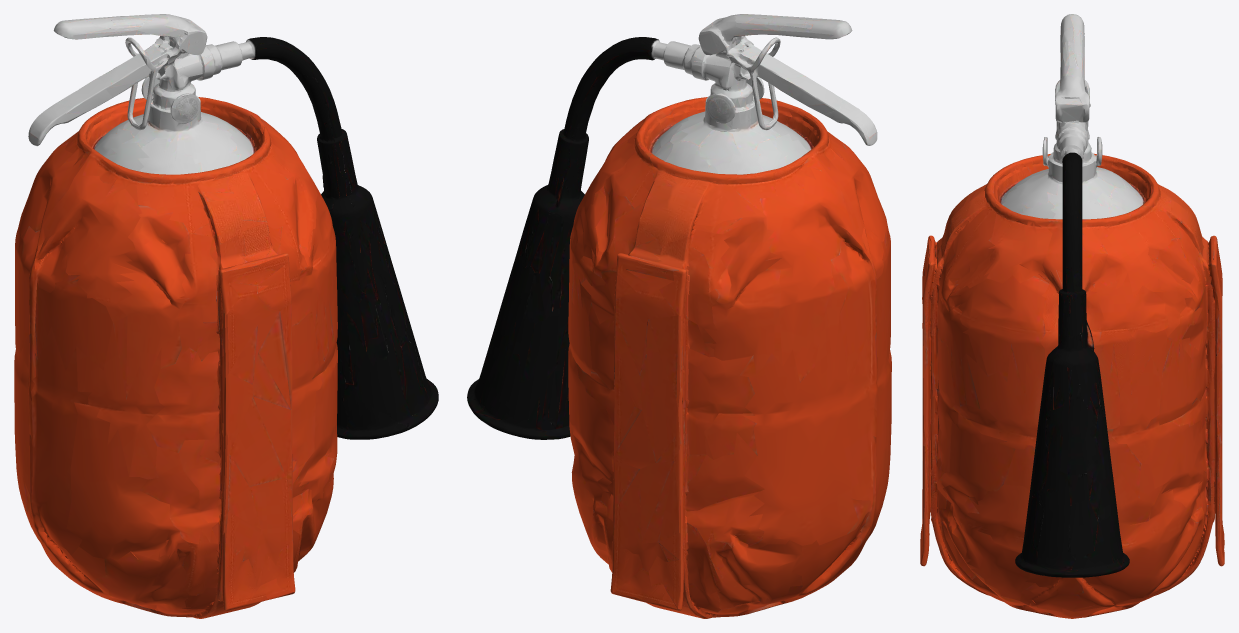
Rendered from pfe_real.glb.
3 views of the same model, side by side, from view 1: azimuth 30°, elevation 25°; view 2: azimuth 150°, elevation 25°; view 3: azimuth 270°, elevation 25° (orthographic). The views are drawn at different scales.
Parts seen in each view (by area): view 1: pfe_real; view 2: pfe_real; view 3: pfe_real.
Part boxes in pixels (box(x1,y1,x2,y2)): pfe_real: box(14, 14, 438, 618); pfe_real: box(467, 14, 891, 618); pfe_real: box(920, 14, 1224, 618).
Size of the model in its own units: 0.3569 by 0.5 by 0.2626.
1 material, 1 textured.
